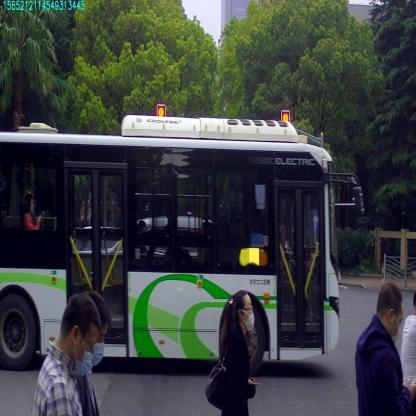traffic-light: (157, 104, 165, 116), (282, 110, 289, 121)
